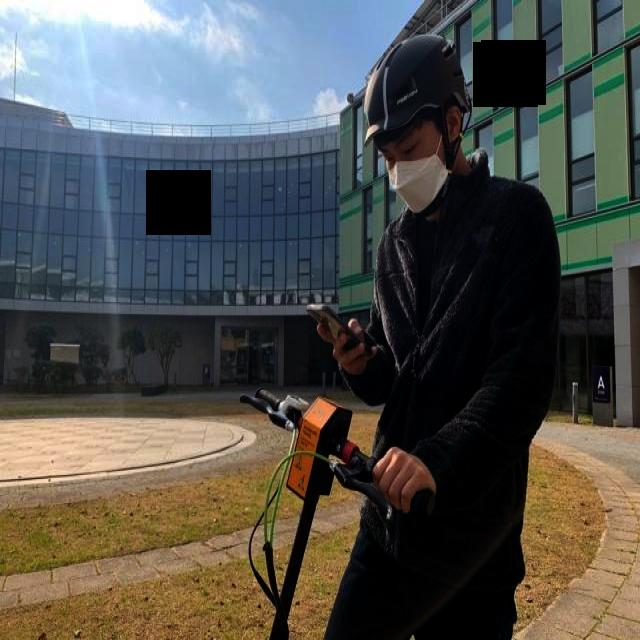Helmet: (364, 37, 472, 215)
